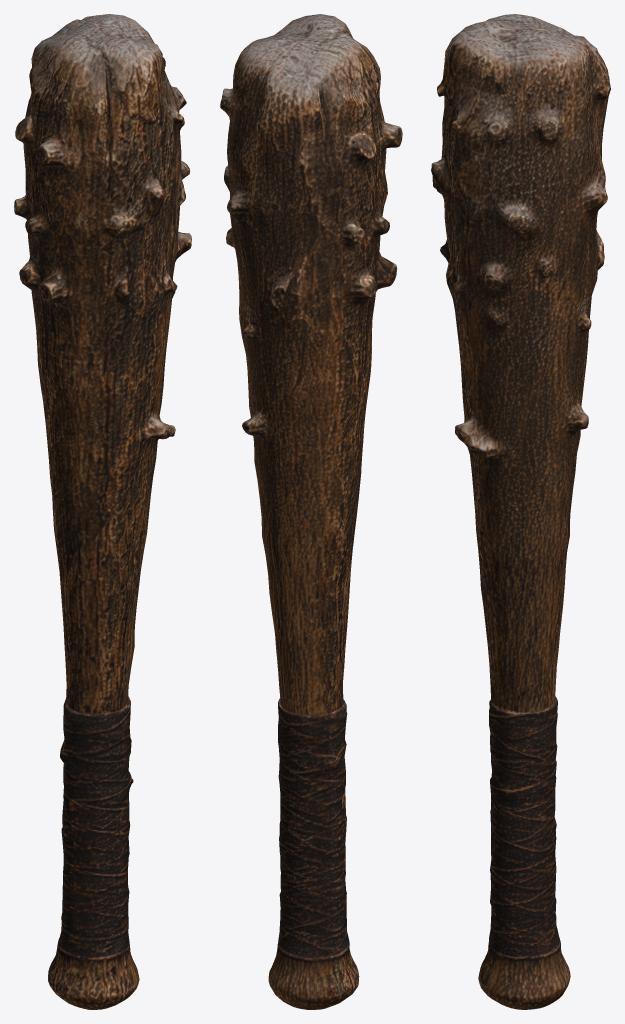
Rendered from wooden club 3d model (1).glb.
3 renders of one model, left to right at view 1: azimuth 30°, elevation 25°; view 2: azimuth 150°, elevation 25°; view 3: azimuth 270°, elevation 25°, orthographic.
Visible parts, largest first — view 1: c8ef71cc_8aaf_43ac_8895_c705117a9c7b; view 2: c8ef71cc_8aaf_43ac_8895_c705117a9c7b; view 3: c8ef71cc_8aaf_43ac_8895_c705117a9c7b.
Boxes of the visible parts, left/top/right/bottom form: c8ef71cc_8aaf_43ac_8895_c705117a9c7b: left=14, top=14, right=191, bottom=1009; c8ef71cc_8aaf_43ac_8895_c705117a9c7b: left=220, top=14, right=402, bottom=1009; c8ef71cc_8aaf_43ac_8895_c705117a9c7b: left=431, top=14, right=610, bottom=1009.
Size of the model in its own units: 0.1724 by 0.9995 by 0.1655.
1 material, 1 textured.
